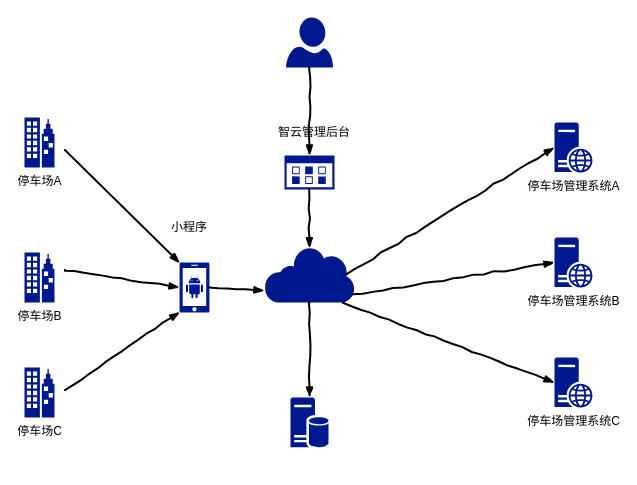
Some shapes in this 637 by 485 pixel diagram are drawn without their labels. The shapes that lost their labels are listed below. From the top down, each one's centre as x and y in pixels, then its label:
(309,42): 新智云管理员
(309,422): 储存用户与停车场数据
